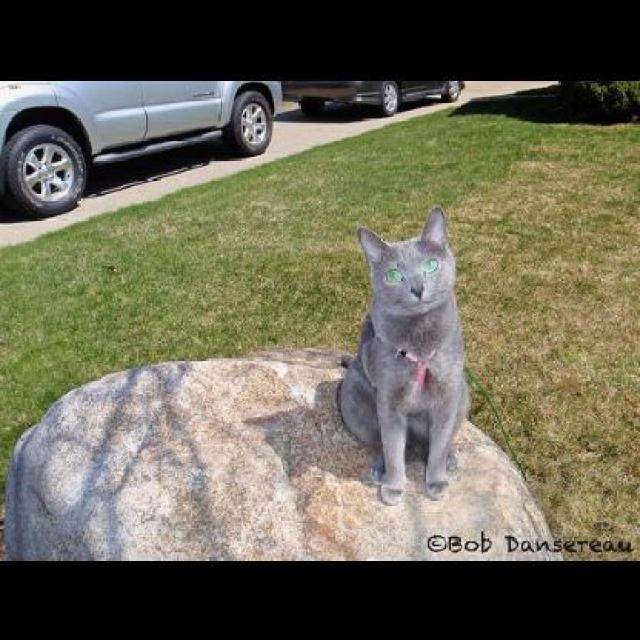unauthorized: (334, 205, 469, 504)
